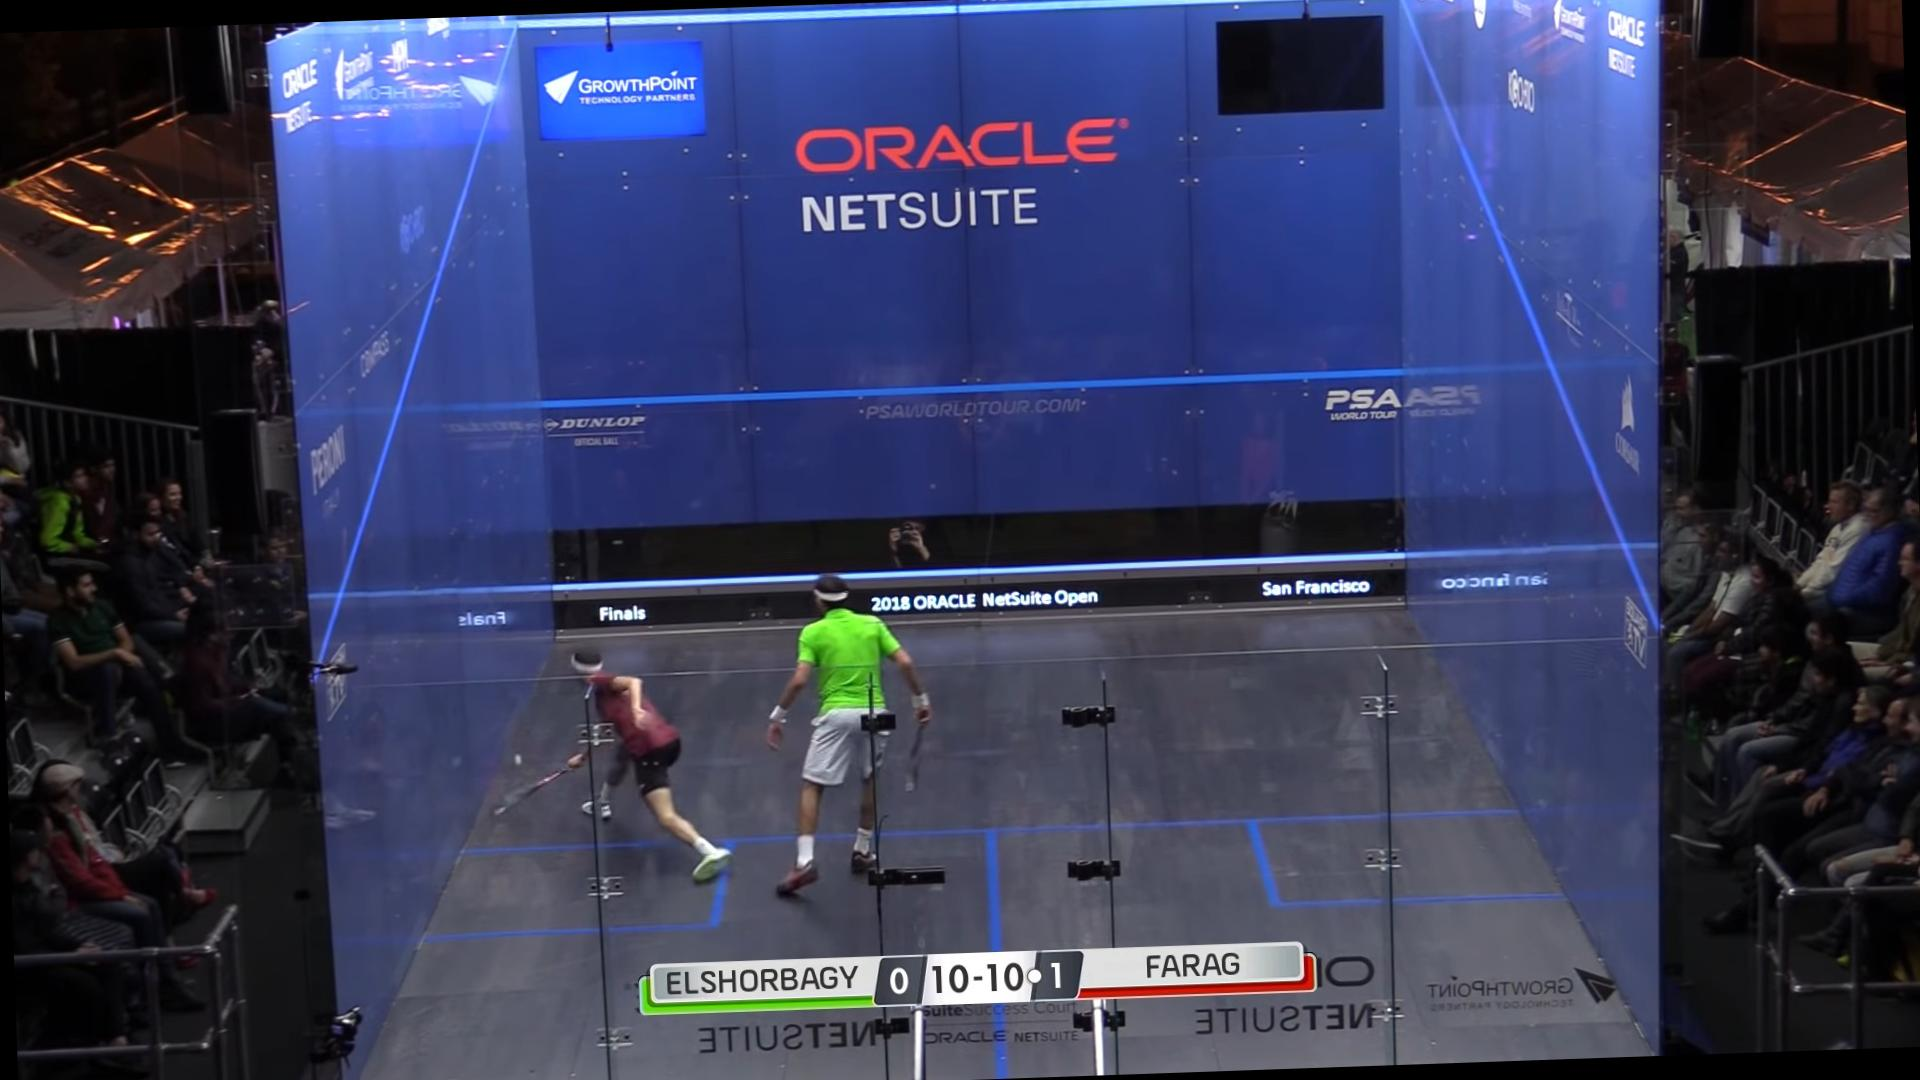Squash-Ball: (509, 741, 534, 774)
